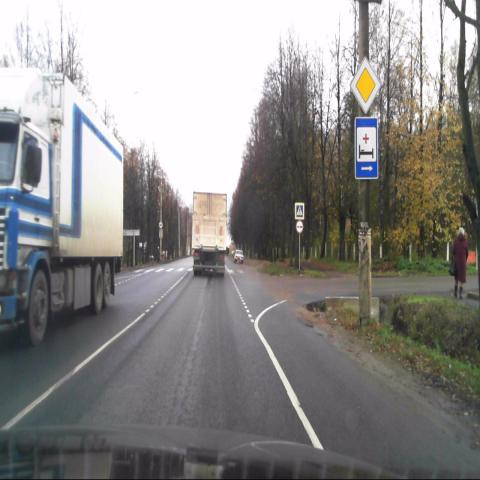7_2: (356, 121, 378, 178)
